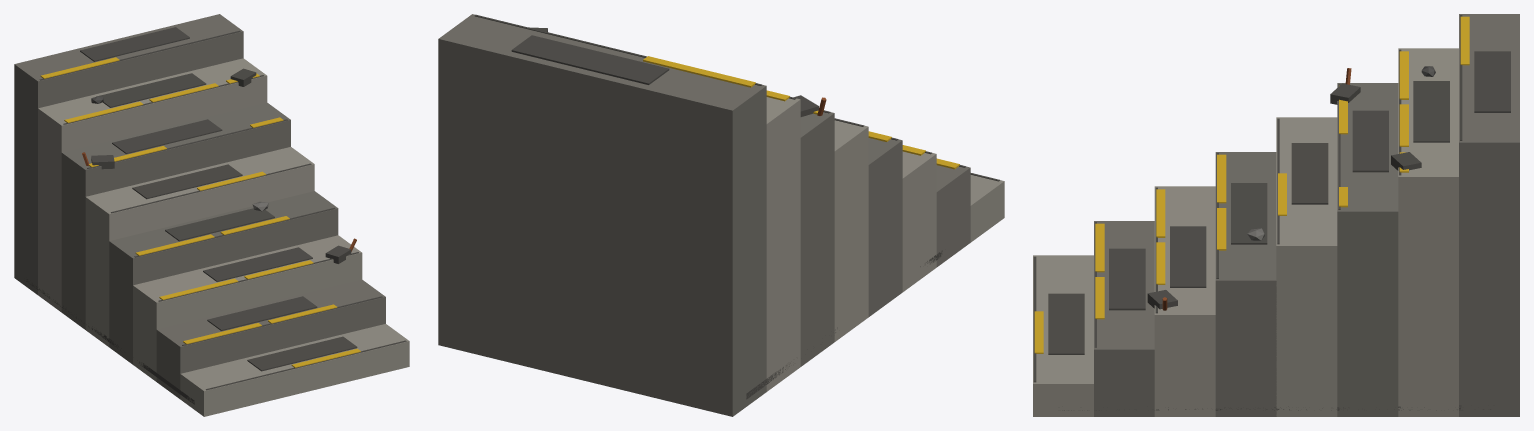
File: bld_stairs_flight.fbx
3 renders of one model, left to right at view 1: azimuth 30°, elevation 25°; view 2: azimuth 150°, elevation 25°; view 3: azimuth 270°, elevation 25°, orthographic. The views are drawn at different scales.
Visible parts, largest first — view 1: bld_stairs_flight; view 2: bld_stairs_flight; view 3: bld_stairs_flight.
Part boxes in pixels (box(x1,y1,x2,y2)): bld_stairs_flight: box(14, 14, 409, 416); bld_stairs_flight: box(438, 14, 1004, 416); bld_stairs_flight: box(1033, 14, 1519, 416).
Bounding box in the file's own units: 1.5 × 1.5 × 2.4.
